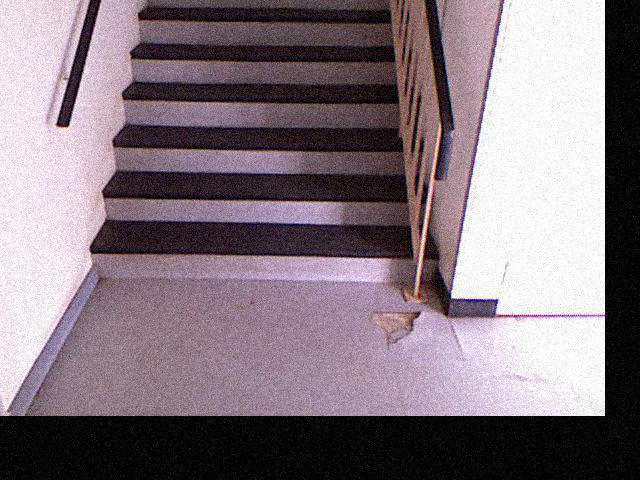Escaleras: (92, 0, 443, 288)
